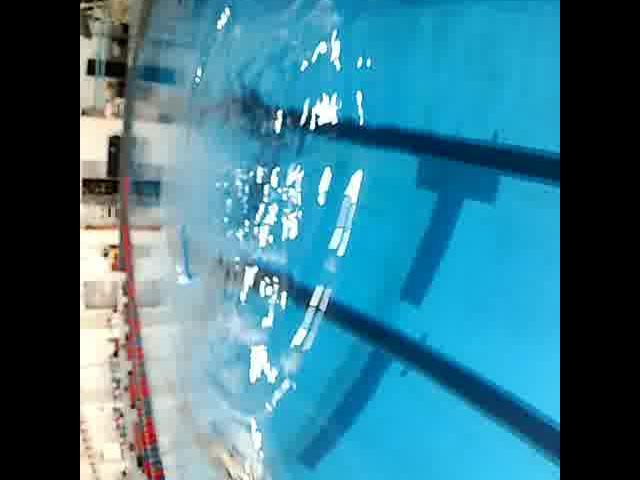Bottle: (168, 219, 198, 292)
